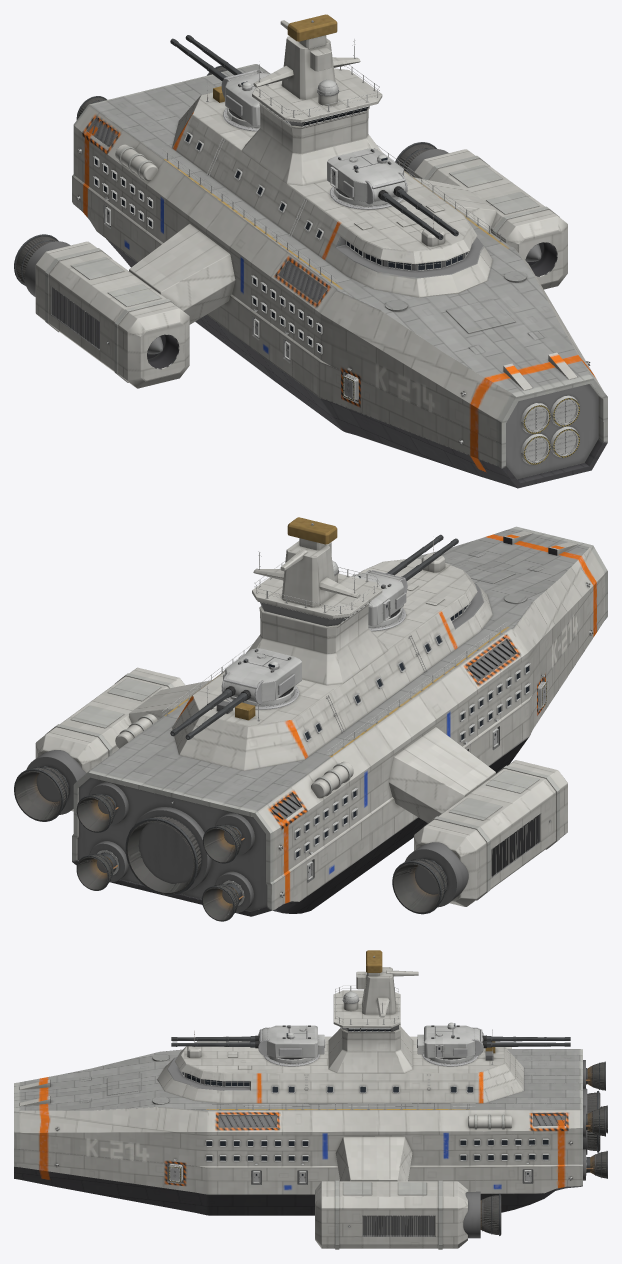
Rendered from corvette.glb.
3 views of the same model, one above another, from view 1: azimuth 30°, elevation 25°; view 2: azimuth 150°, elevation 25°; view 3: azimuth 270°, elevation 25° (orthographic). The views are drawn at different scales.
Parts seen in each view (by area): view 1: hull, parts_turret-M, parts_torpedoDoor, parts_port, parts_rail, parts_bell-L, parts_pane; view 2: hull, parts_turret-M, parts_bell-L, parts_bell-M, parts_port, parts_rail; view 3: hull, parts_turret-M, parts_port, parts_bell-M, parts_bell-L, parts_rail, parts_pane.
Part boxes in pixels (box(x1,y1,x2,y2)): hull: box(24, 14, 607, 488); parts_turret-M: box(170, 35, 458, 239); parts_torpedoDoor: box(521, 395, 579, 464); parts_port: box(93, 132, 323, 354); parts_rail: box(162, 65, 505, 283); parts_bell-L: box(14, 142, 436, 285); parts_pane: box(260, 102, 468, 270); hull: box(26, 517, 607, 916); parts_turret-M: box(170, 534, 458, 739); parts_bell-L: box(14, 766, 447, 914); parts_bell-M: box(76, 794, 244, 921); parts_port: box(186, 633, 530, 859); parts_rail: box(162, 561, 505, 755); hull: box(14, 950, 587, 1249); parts_turret-M: box(171, 1022, 570, 1066); parts_port: box(205, 1085, 549, 1161); parts_bell-M: box(586, 1061, 607, 1178); parts_bell-L: box(480, 1091, 600, 1235); parts_rail: box(212, 985, 475, 1109); parts_pane: box(179, 1027, 391, 1086).
Size of the model in its own units: 69.46 by 46.71 by 108.
Materials: 17 (17 with a texture image).
